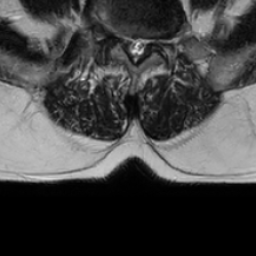CCS_normal: (131, 28, 139, 72)
LFS_severe_stenosis: (148, 26, 157, 54)
LLS_stenosis: (139, 28, 148, 63)
RFS_stenosis: (114, 22, 123, 50)
RLS_severe_stenosis: (123, 25, 131, 59)
